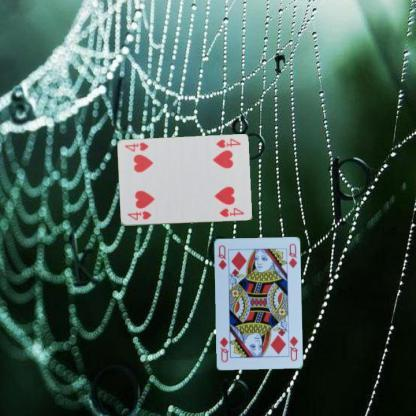4h: (214, 136, 242, 150), (124, 209, 152, 221)
Qd: (285, 332, 299, 362), (216, 242, 228, 272)
